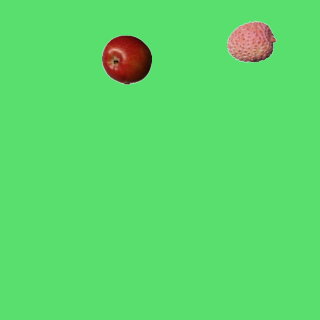Apple Braeburn: (101, 34, 151, 84)
Lychee: (226, 16, 276, 66)
